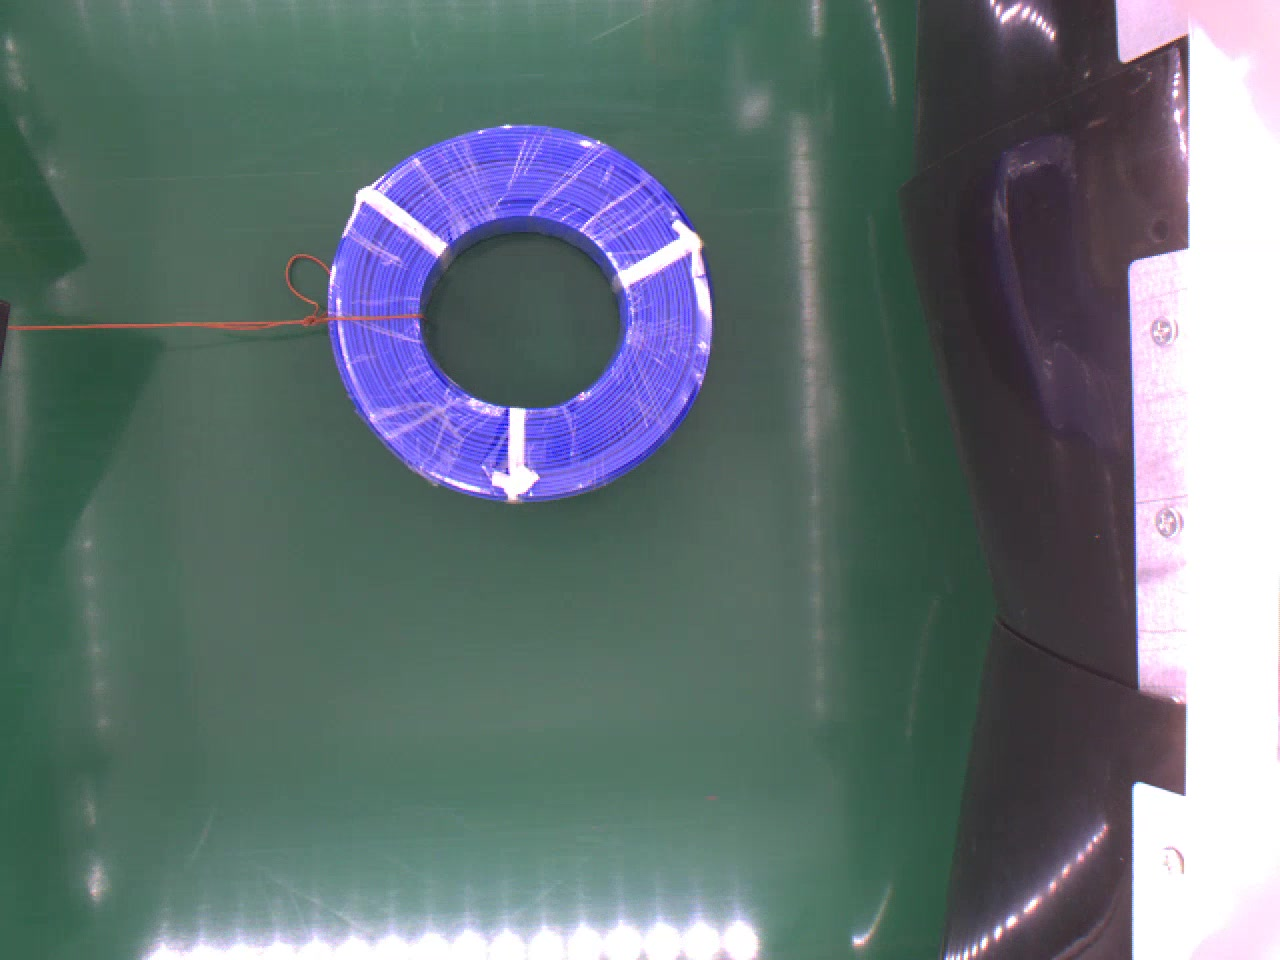blue: (321, 121, 716, 502)
